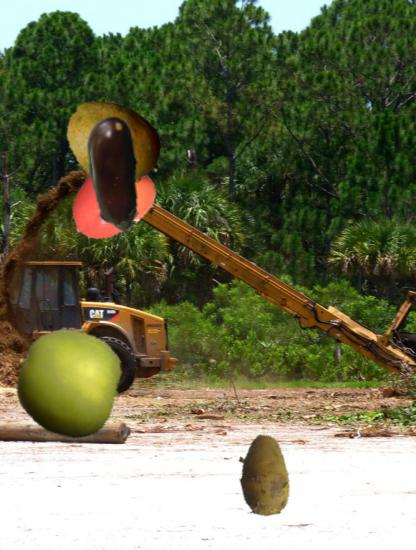Apple: (16, 327, 129, 440)
Eggplant: (52, 114, 180, 242)
Kaki: (65, 154, 156, 245)
Papaya: (65, 92, 164, 191)
Potato: (223, 435, 305, 517)
